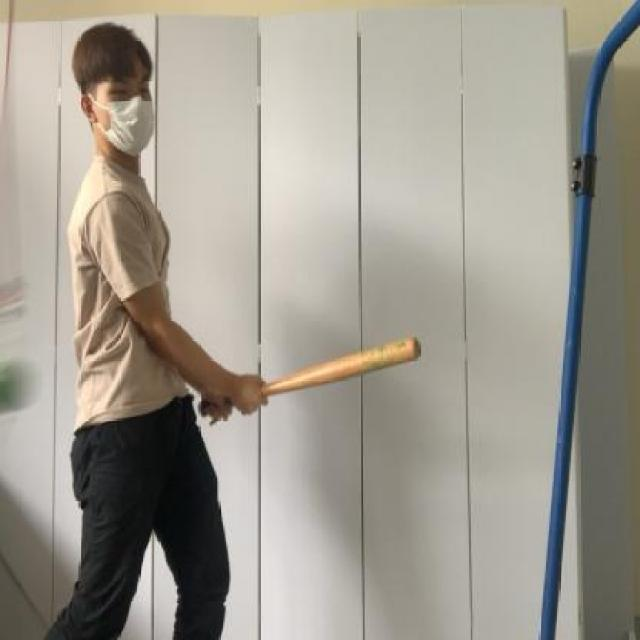baseball: (0, 354, 40, 415)
